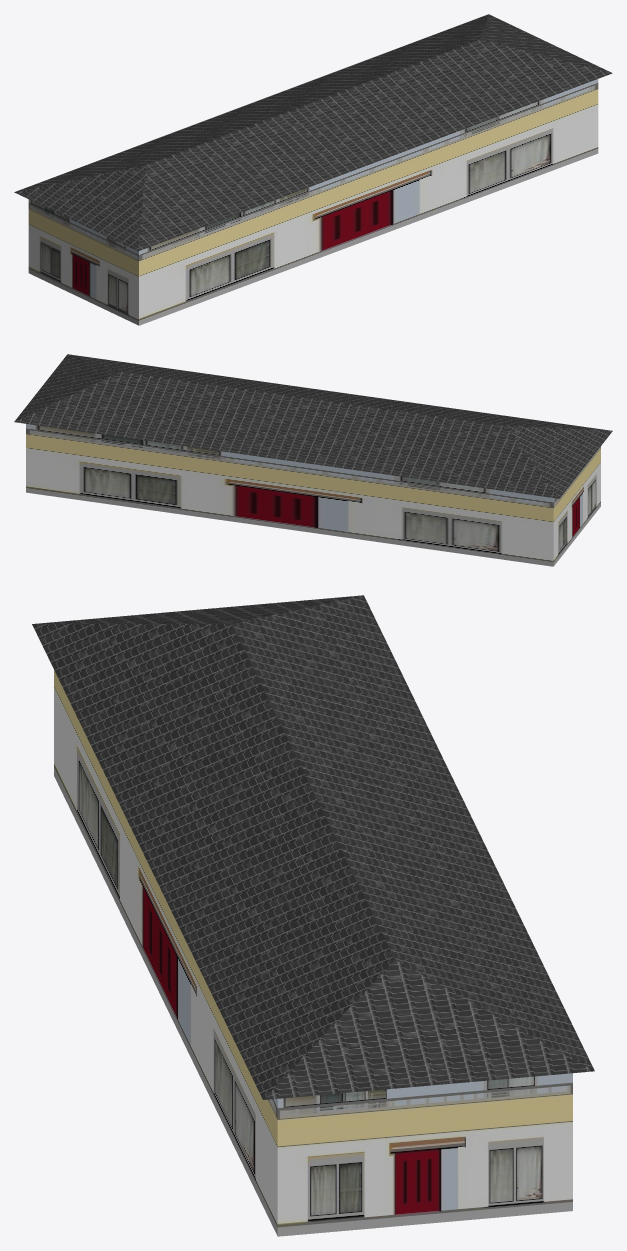
3 views of the same model, one above another, from view 1: azimuth 30°, elevation 25°; view 2: azimuth 150°, elevation 25°; view 3: azimuth 270°, elevation 25° (orthographic). The views are drawn at different scales.
Parts seen in each view (by area): view 1: CityEngineMaterial_16_m, CityEngineMaterial_15_m; view 2: CityEngineMaterial_16_m, CityEngineMaterial_15_m; view 3: CityEngineMaterial_16_m, CityEngineMaterial_15_m.
Boxes of the visible parts, x1,y1,x2,y2 form: CityEngineMaterial_16_m: (14, 14, 612, 251); CityEngineMaterial_15_m: (28, 79, 598, 325); CityEngineMaterial_16_m: (14, 354, 612, 498); CityEngineMaterial_15_m: (26, 424, 600, 566); CityEngineMaterial_16_m: (32, 595, 594, 1099); CityEngineMaterial_15_m: (54, 670, 572, 1236).
Size of the model in its own units: 59.65 by 11.12 by 28.12.
